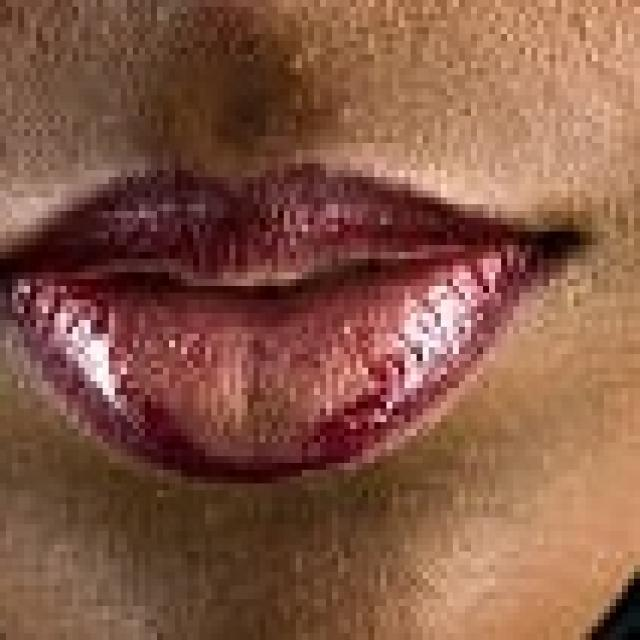closed-mouth: (0, 150, 586, 483)
